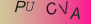A: (69, 6, 81, 20)
C: (45, 2, 58, 16)
P: (13, 1, 26, 13)
U: (25, 1, 36, 13)
V: (57, 1, 70, 15)
